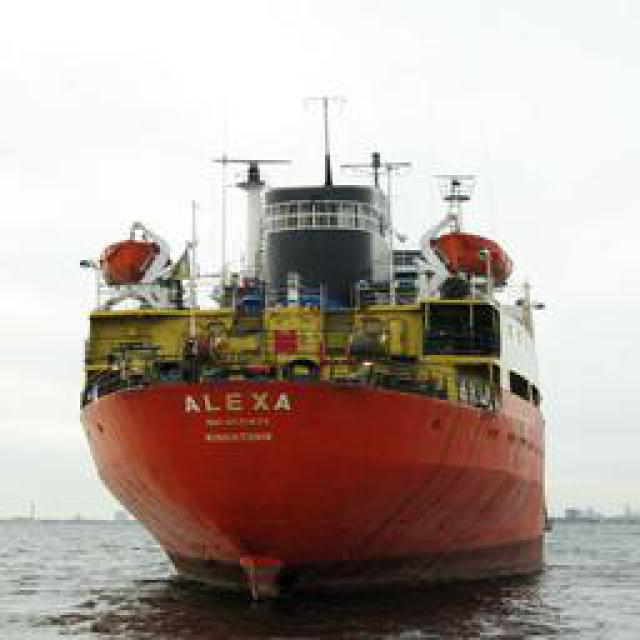Ship: (85, 169, 553, 609)
